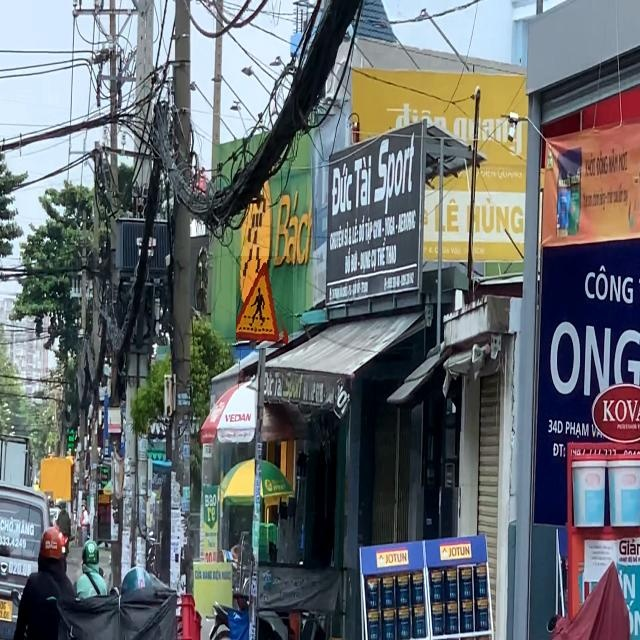bien_nguy_hiem: (236, 256, 293, 350)
